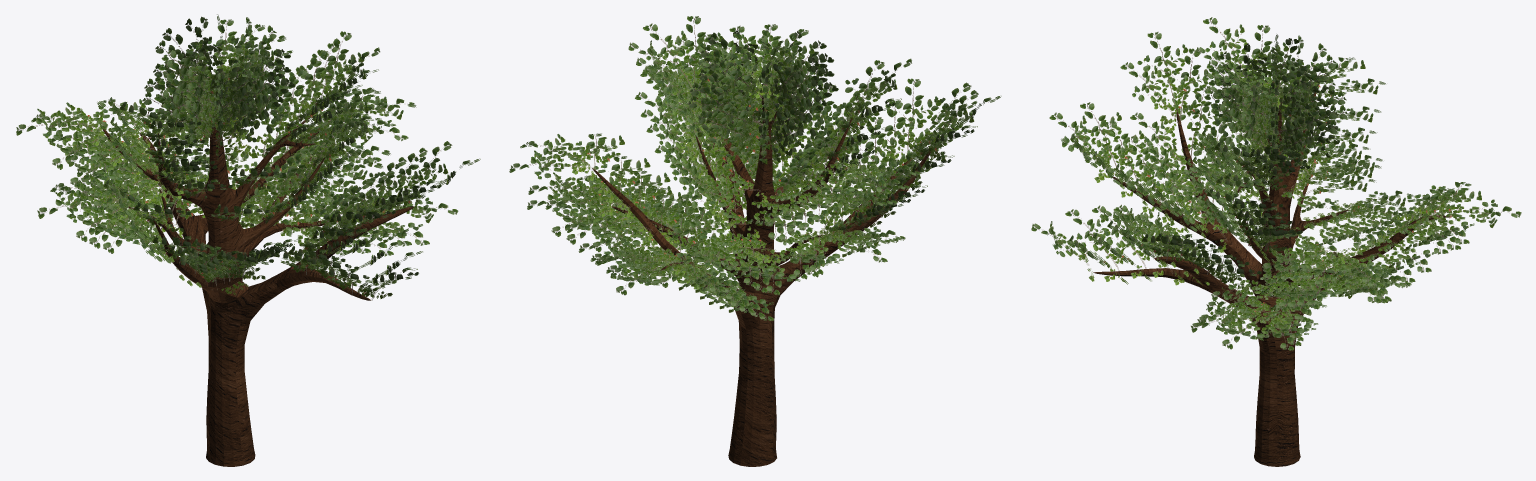
Rendered from tree.fbx.
The picture shows the model from 3 angles, left to right: view 1: azimuth 30°, elevation 25°; view 2: azimuth 150°, elevation 25°; view 3: azimuth 270°, elevation 25°; orthographic projection. The views are drawn at different scales.
Parts seen in each view (by area): view 1: Tree Branch.008; view 2: Tree Branch.008; view 3: Tree Branch.008.
Boxes of the visible parts, left/top/right/bottom form: Tree Branch.008: left=16, top=14, right=480, bottom=466; Tree Branch.008: left=509, top=16, right=1001, bottom=466; Tree Branch.008: left=1031, top=17, right=1521, bottom=466.
Size of the model in its own units: 27535 by 29127 by 31356.
2 materials, 2 textured.
